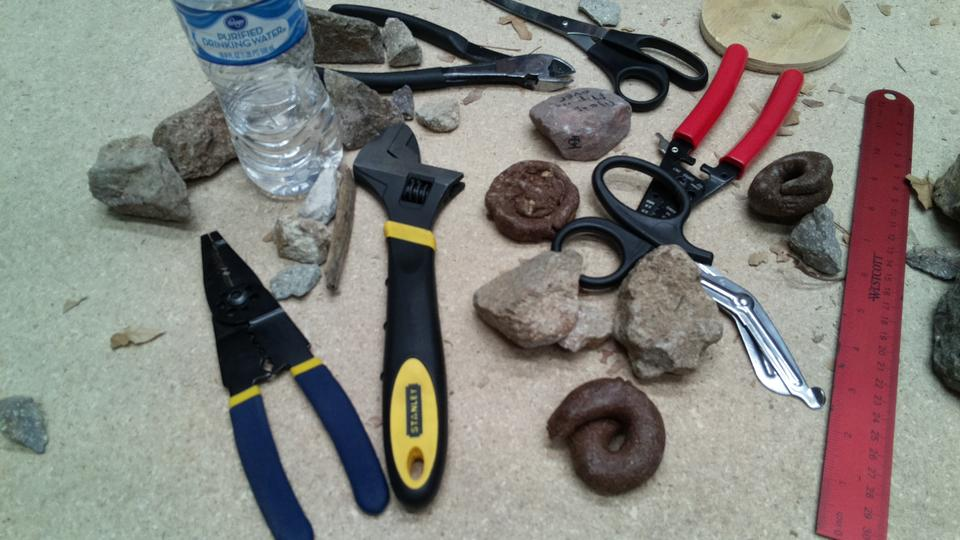poop: (540, 375, 672, 497), (483, 158, 585, 241), (746, 147, 837, 226)
